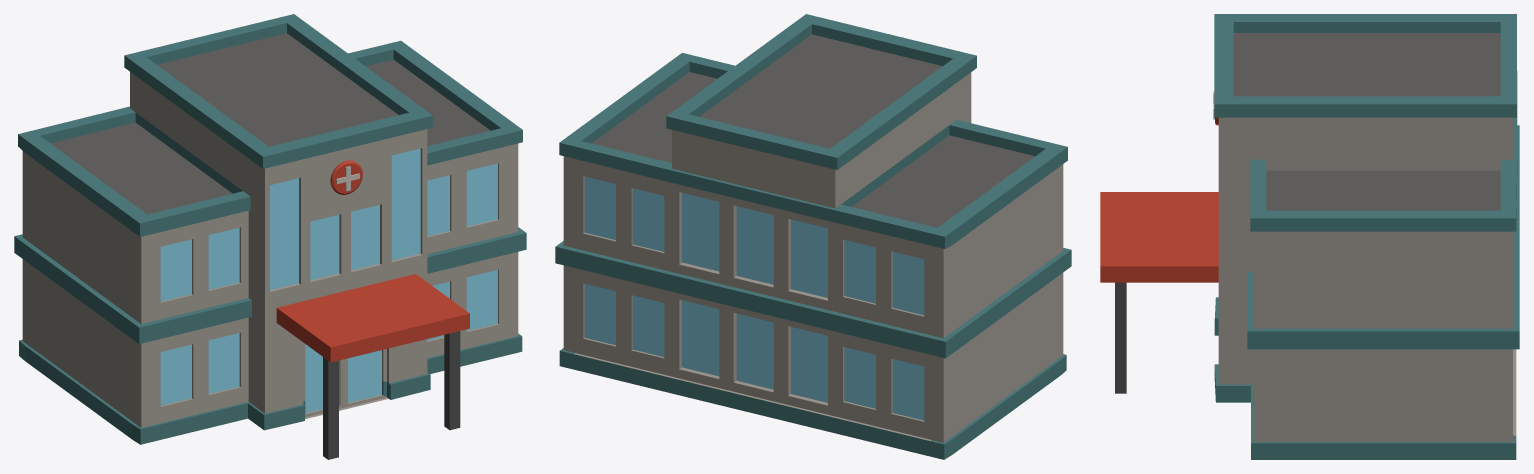
The model's file is SM_Hospital.gltf.
The picture shows the model from 3 angles, left to right: view 1: azimuth 30°, elevation 25°; view 2: azimuth 150°, elevation 25°; view 3: azimuth 270°, elevation 25°; orthographic projection. The views are drawn at different scales.
Parts seen in each view (by area): view 1: SM_Hospital; view 2: SM_Hospital; view 3: SM_Hospital.
Part boxes in pixels (x1=…): SM_Hospital: x1=14, y1=14, x2=526, y2=459; SM_Hospital: x1=555, y1=14, x2=1071, y2=459; SM_Hospital: x1=1100, y1=14, x2=1519, y2=459.
Size of the model in its own units: 4.64 by 3.14 by 3.99.
